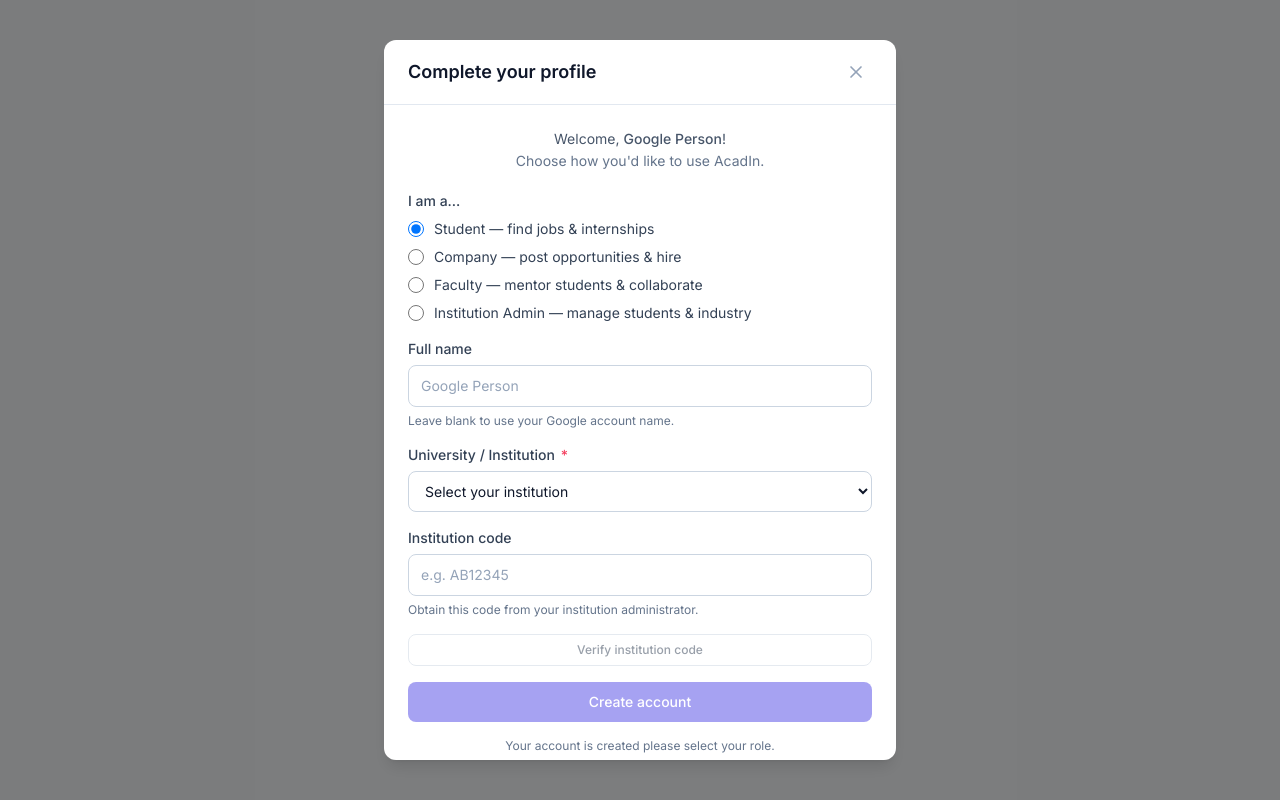
Test: GoogleOnboardingModal — visible fields per role › switching to {} shows only that role’s fields
Click the radio button labelled "Company — post opportunities & hire".
click(416, 257)  # box [408,249,424,265]
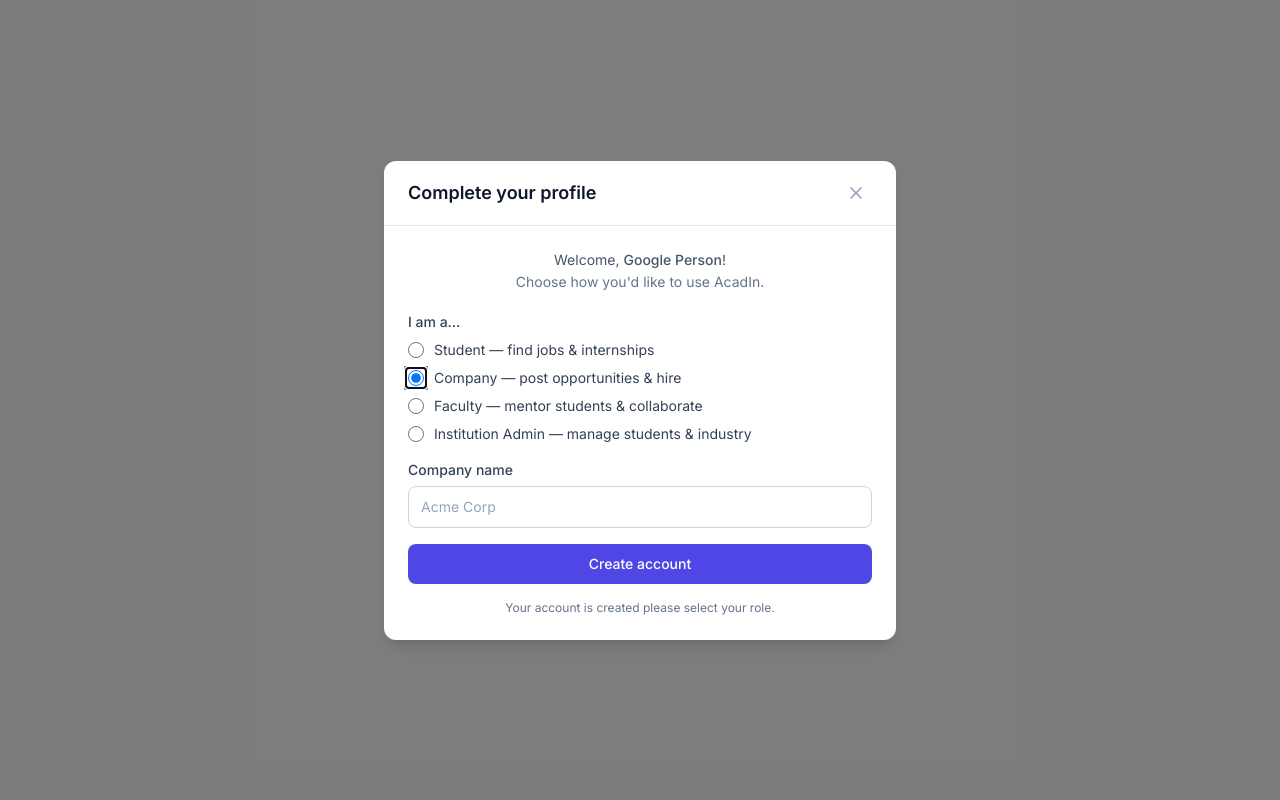
Expected: the field labelled "Company name" is shown, [408,486,872,528]
Expected: the label labelled "Full name" is gone
Expected: the label labelled "Institution code" is gone
